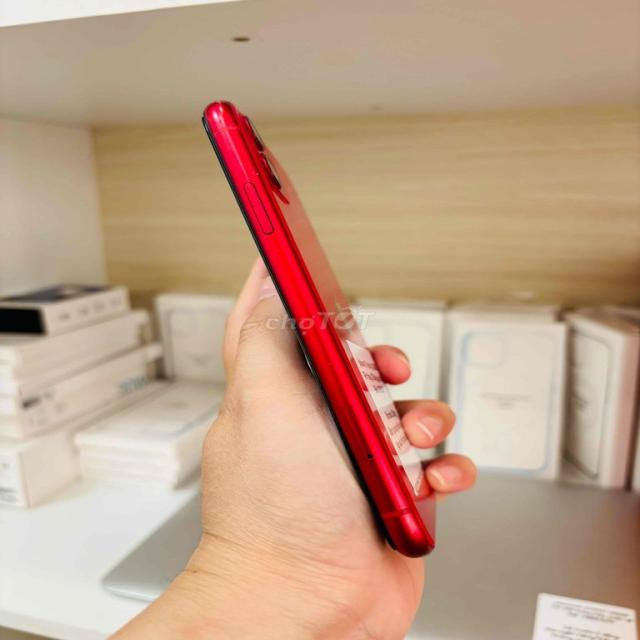scratch: (202, 98, 448, 557)
